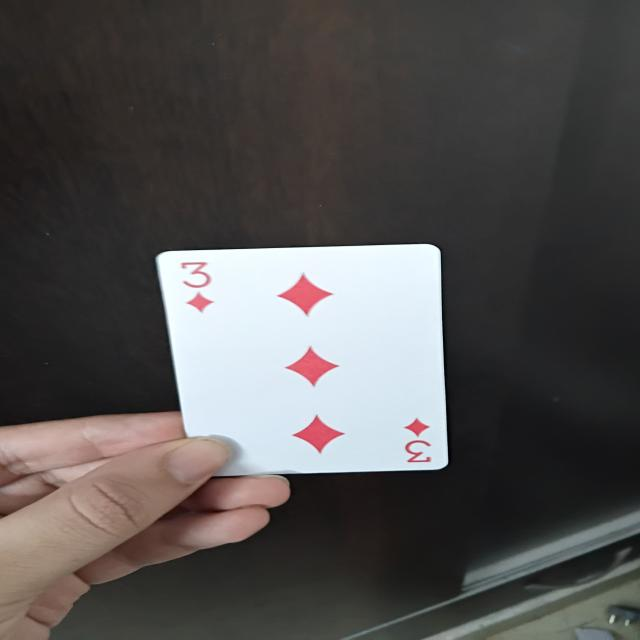3D: (154, 241, 450, 474)
